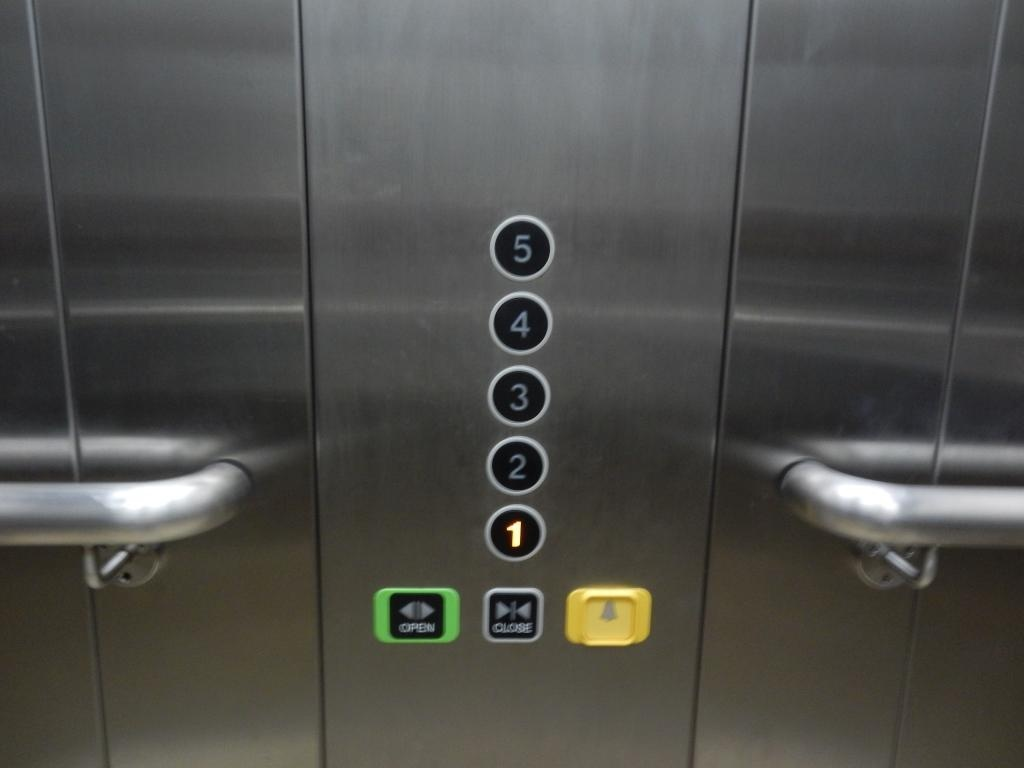1: (481, 503, 547, 563)
2: (485, 434, 552, 494)
3: (486, 364, 552, 427)
4: (487, 290, 554, 355)
5: (487, 213, 555, 282)
alarm: (564, 587, 654, 648)
close: (482, 586, 545, 643)
open: (372, 586, 461, 646)
